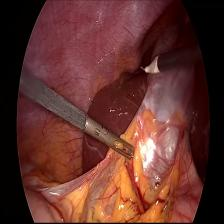Grasper: (86, 116, 137, 163)
Hook: (138, 54, 162, 78)
